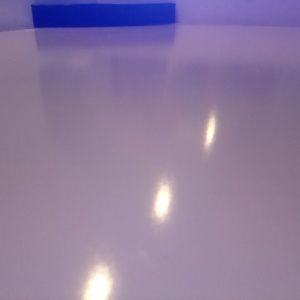zone: (31, 4, 175, 27)
